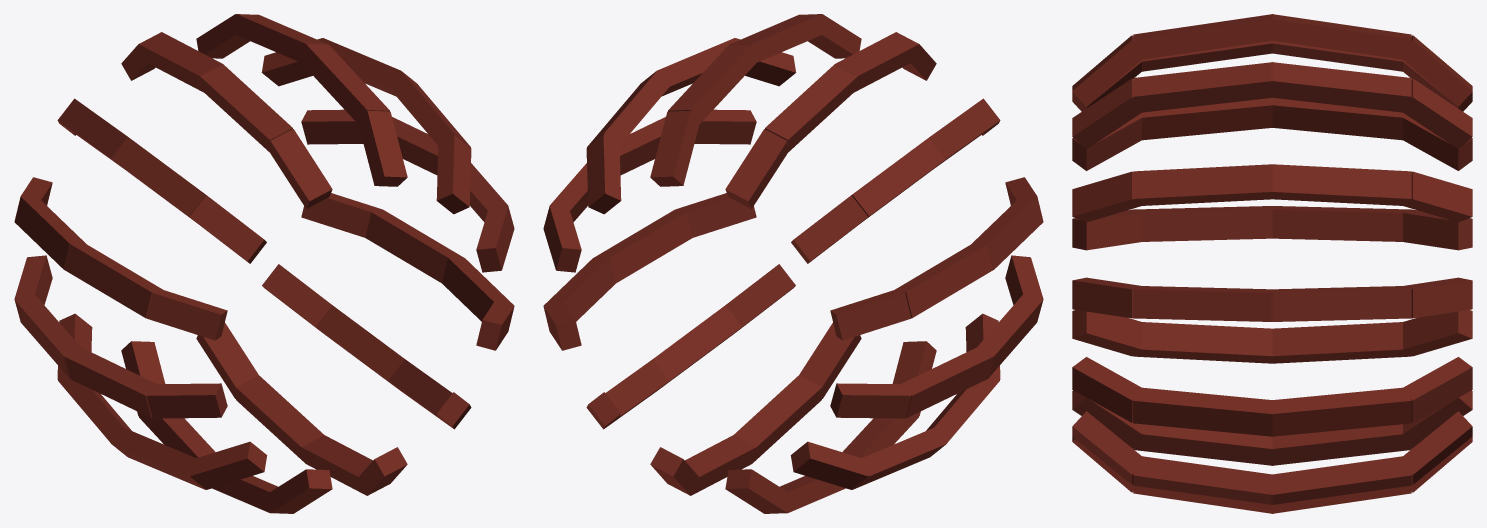
File: th_tf_coils.obj
3 renders of one model, left to right at view 1: azimuth 30°, elevation 25°; view 2: azimuth 150°, elevation 25°; view 3: azimuth 270°, elevation 25°, orthographic. The views are drawn at different scales.
Parts seen in each view (by area): view 1: th_tf_coils; view 2: th_tf_coils; view 3: th_tf_coils.
Part boxes in pixels (x1,y1,x2,y2): th_tf_coils: (14, 14, 514, 513); th_tf_coils: (543, 14, 1043, 513); th_tf_coils: (1072, 14, 1472, 513).
Size of the model in its own units: 3.08 by 3.08 by 2.5.
